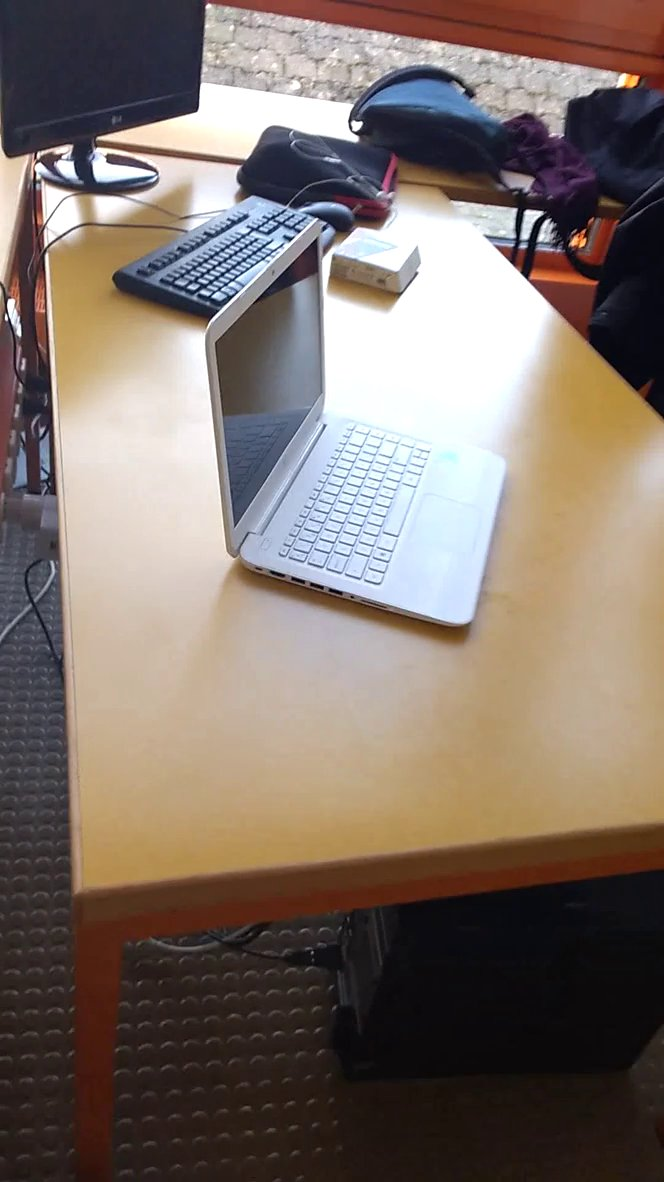bag: (343, 55, 537, 189)
laptop: (194, 209, 515, 656)
